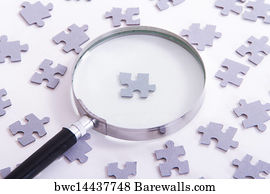puzzle piece: (110, 62, 165, 106), (193, 116, 243, 158), (4, 107, 54, 146), (46, 20, 94, 60), (145, 139, 194, 178), (208, 53, 251, 91), (97, 4, 147, 33), (178, 21, 226, 51), (229, 98, 270, 132), (29, 56, 70, 89), (226, 153, 270, 183), (13, 1, 54, 26)
